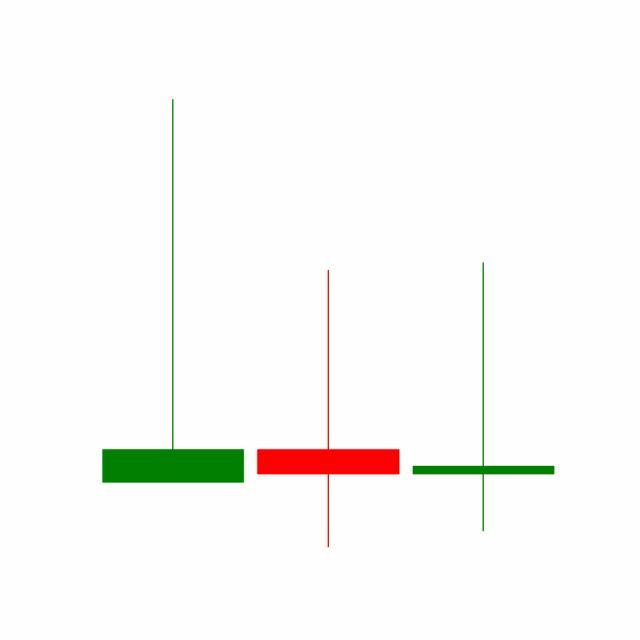Spinning Top: (406, 259, 562, 535)
